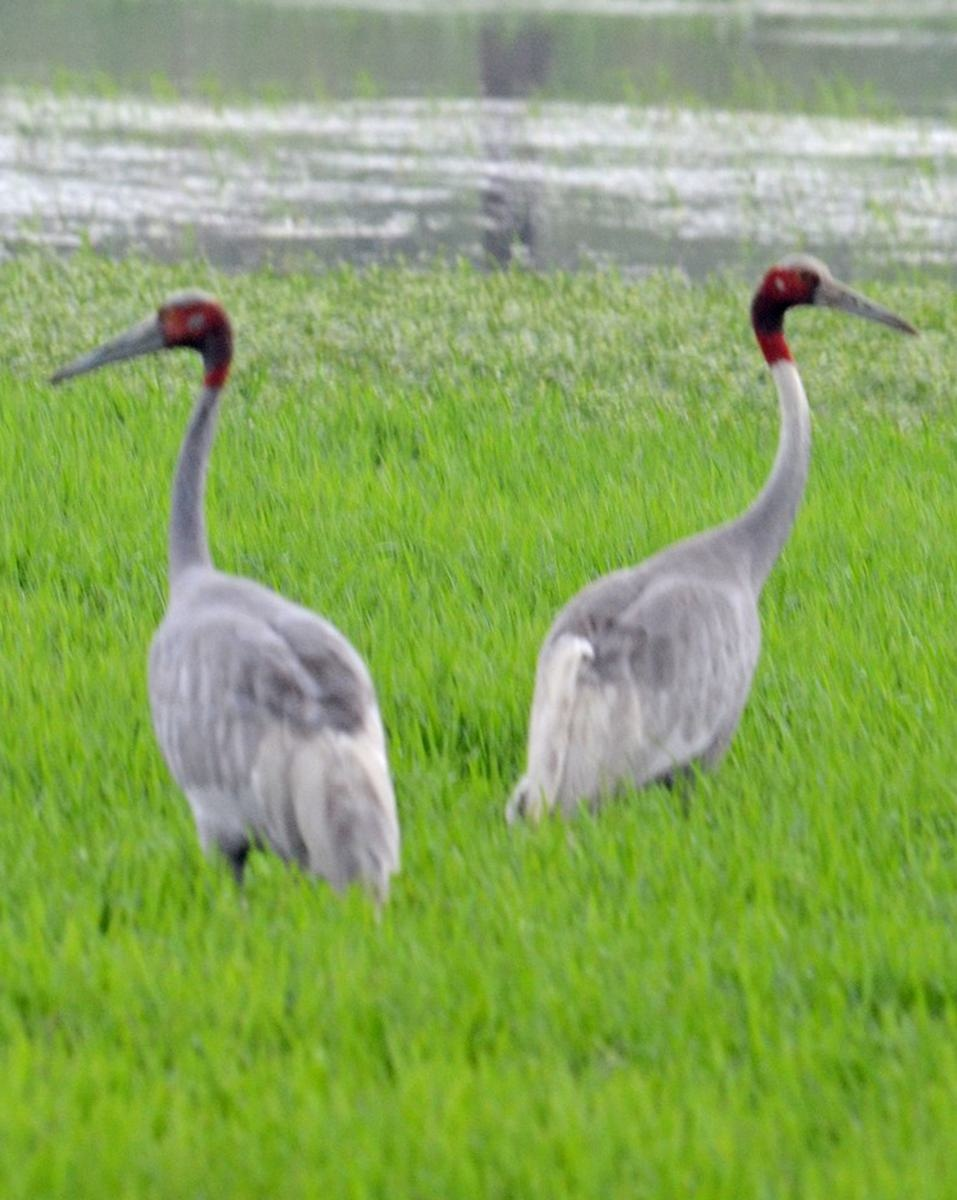crane: (38, 279, 422, 953), (512, 247, 922, 867)
